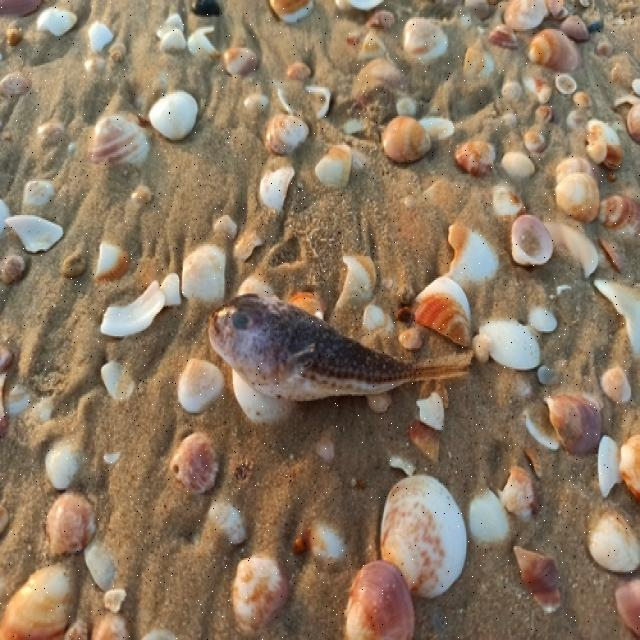Balik: (209, 296, 472, 401)
